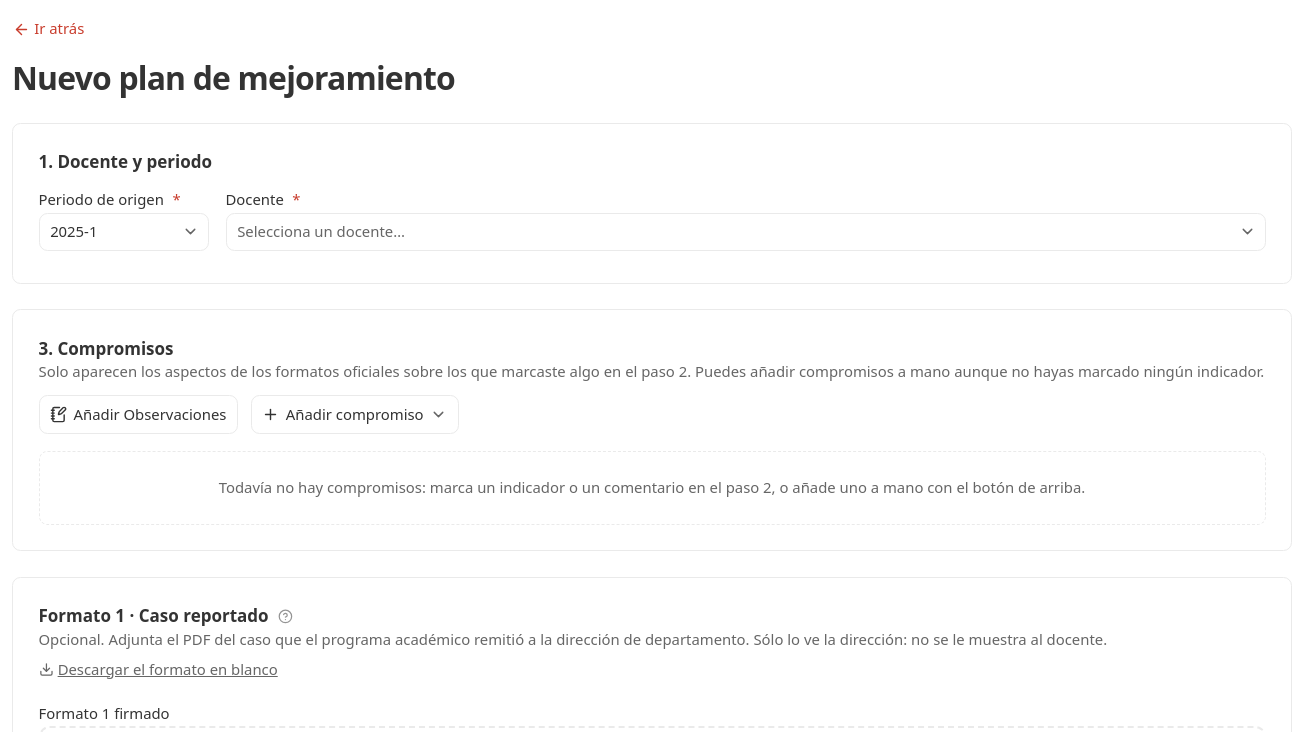
Scenario: PlanFormPage · creación › says "ya tiene plan" next to a teacher who already has one
Step 1. Click the dropdown labelled "Docente" → (734, 232), box [237, 213, 1230, 251]
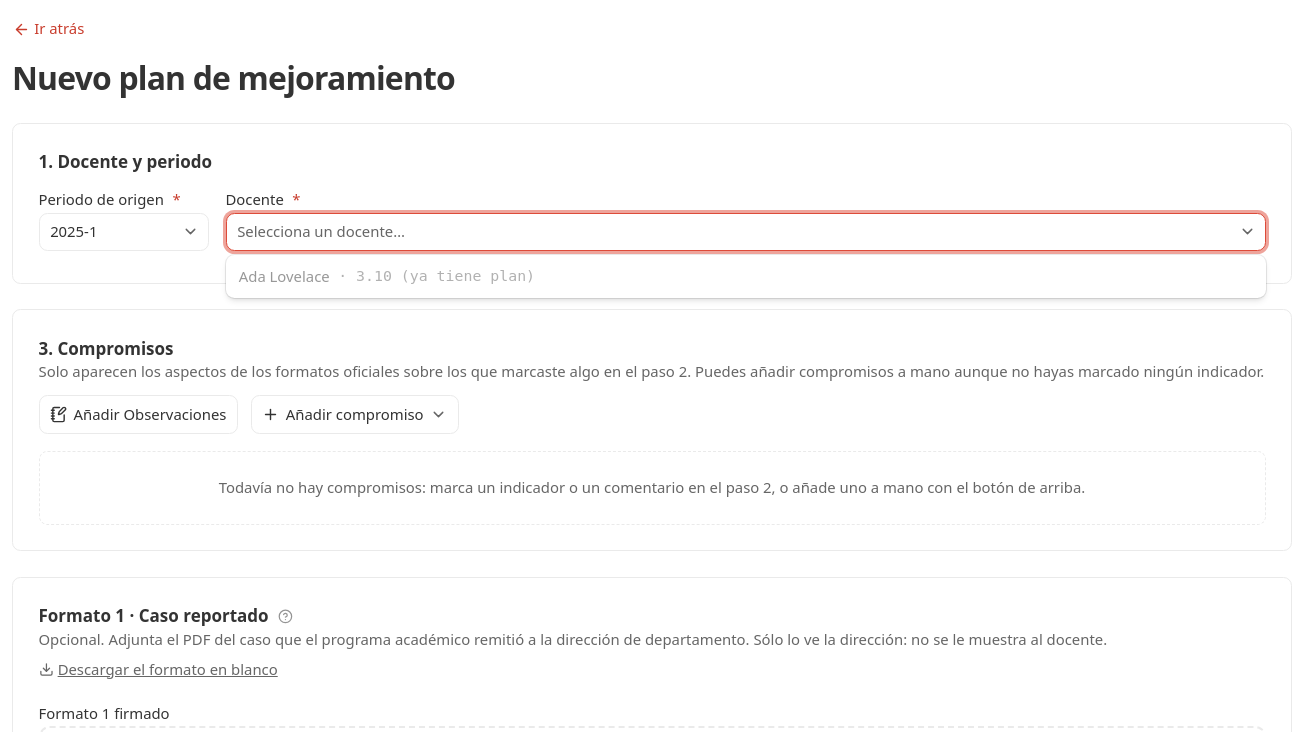
Result: the option "Ada Lovelace · 3.10 (ya tiene plan)" is shown at [239, 266, 535, 286]
